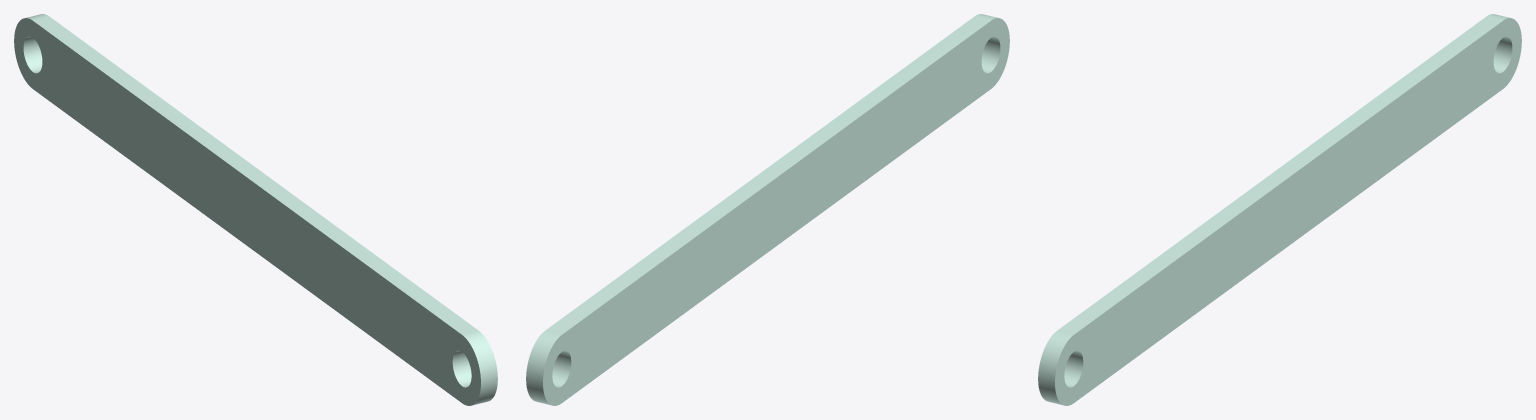
3 views of the same model, side by side, from view 1: azimuth 30°, elevation 25°; view 2: azimuth 150°, elevation 25°; view 3: azimuth 330°, elevation 25° (orthographic).
Parts seen in each view (by area): view 1: Renderer Node; view 2: Renderer Node; view 3: Renderer Node.
Boxes of the visible parts, x1=… form: Renderer Node: x1=14, y1=14, x2=497, y2=405; Renderer Node: x1=526, y1=14, x2=1009, y2=405; Renderer Node: x1=1038, y1=14, x2=1521, y2=405.
Bounding box in the file's own units: 0.0313 × 0.1211 × 1.5.
